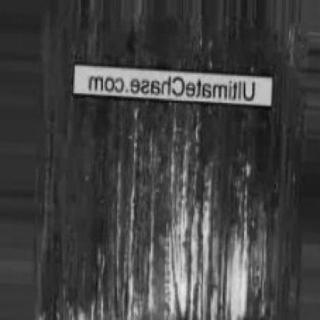Fire: (17, 113, 281, 314)
